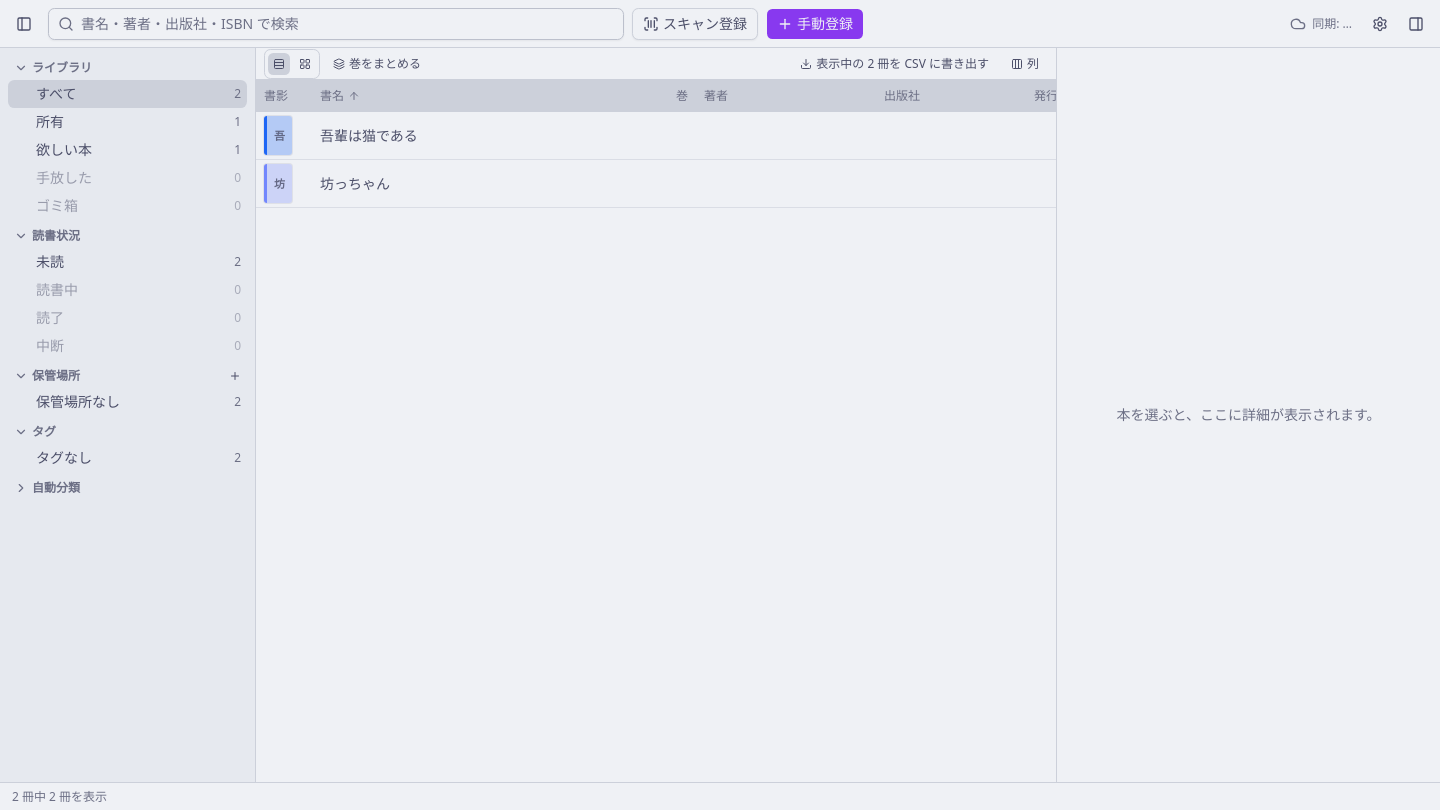
it: メイン画面 › 表示の形（表・グリッド。FR-LIST-07） › グリッドに切り替えると、カードのグリッドと並べ替えのメニューを出す。選んだ形は layoutStore に入る
Step 1. Click the button named "グリッド" → (305, 64), box [293,52,317,76]
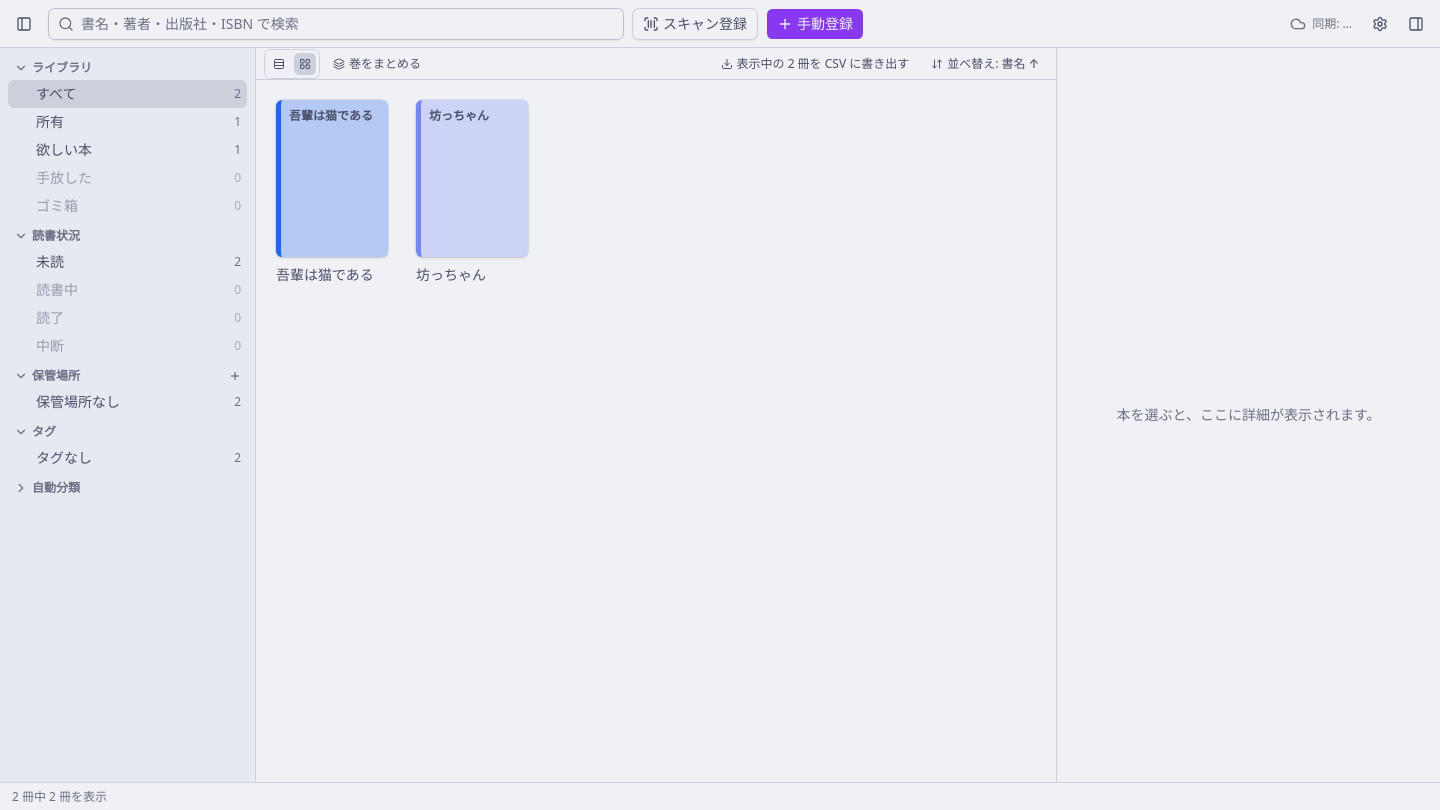
Now the table named "蔵書のグリッド" is shown, box [276,100,528,284]
Now the table "蔵書の一覧" is gone
Now the 2nd text "吾輩は猫である" is shown, box [276,265,374,284]
Step 2. Click the button named "表" → (279, 64), box [267,52,291,76]
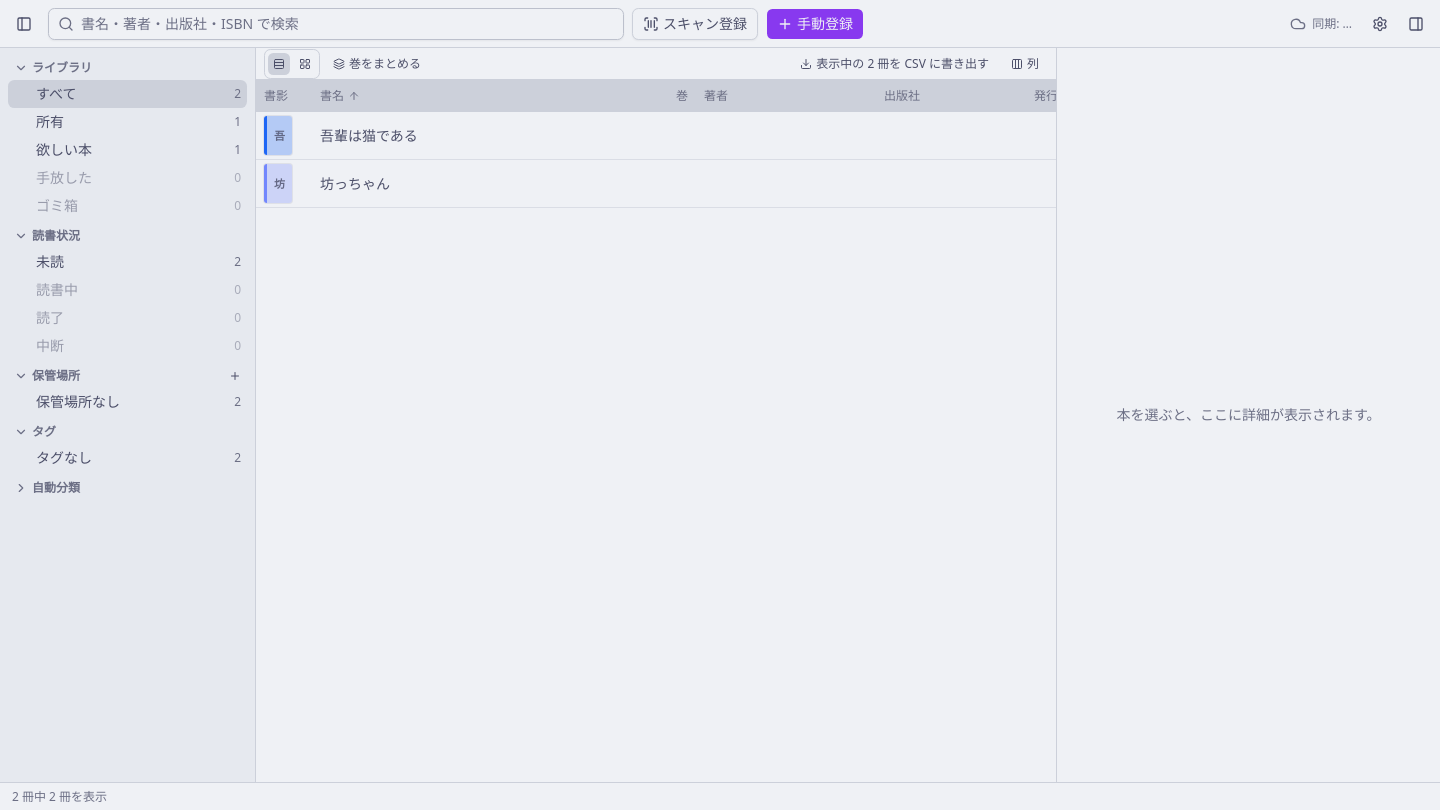
Now the button "列" is shown, box [1002,52,1048,76]
